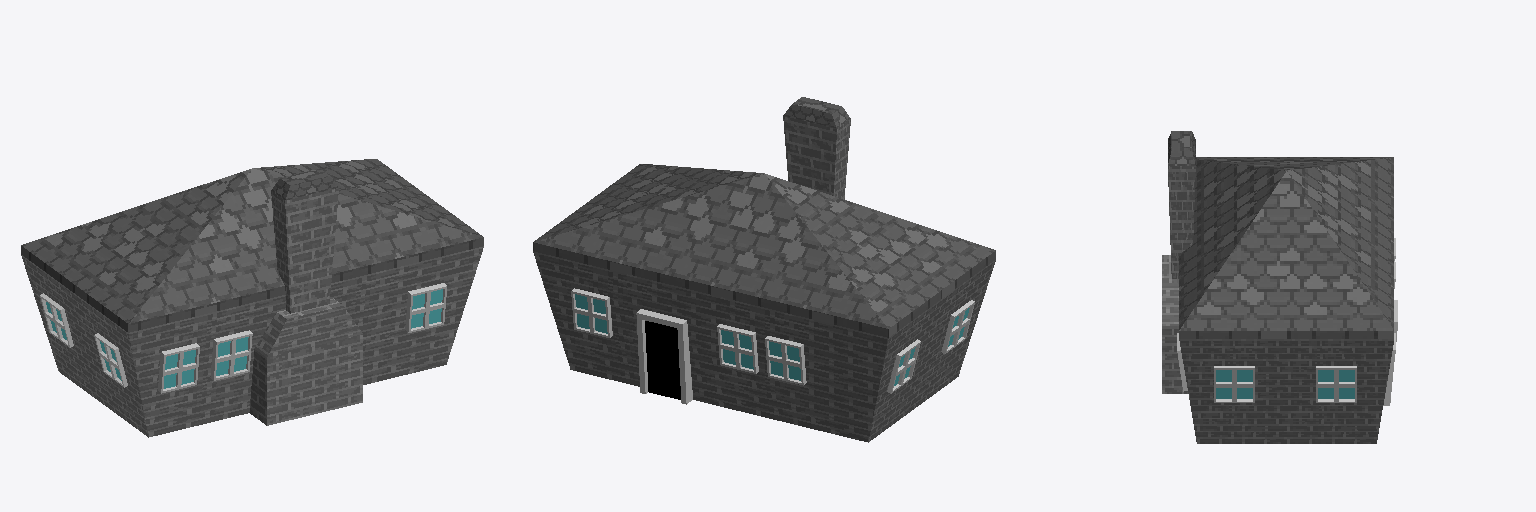
3 views of the same model, side by side, from view 1: azimuth 30°, elevation 25°; view 2: azimuth 150°, elevation 25°; view 3: azimuth 270°, elevation 25° (orthographic).
Visible parts, largest first — view 1: house_2; view 2: house_2; view 3: house_2.
Boxes of the visible parts, x1,y1,x2,y2 form: house_2: [21, 159, 483, 437]; house_2: [533, 97, 995, 442]; house_2: [1162, 131, 1397, 443].
Size of the model in its own units: 12.6 by 7.78 by 7.26.
5 materials, 2 textured.